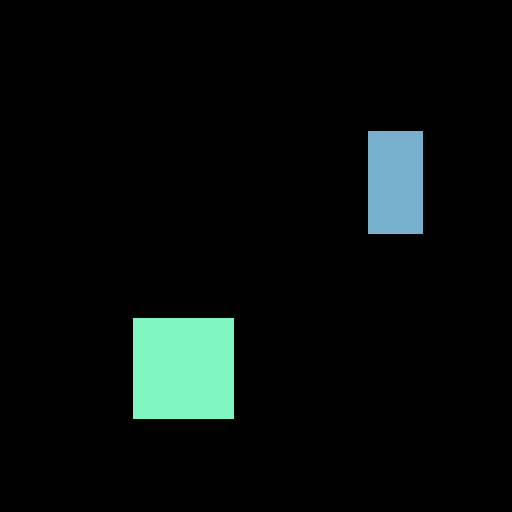rectangle: (368, 131, 422, 233)
square: (133, 318, 233, 418)
